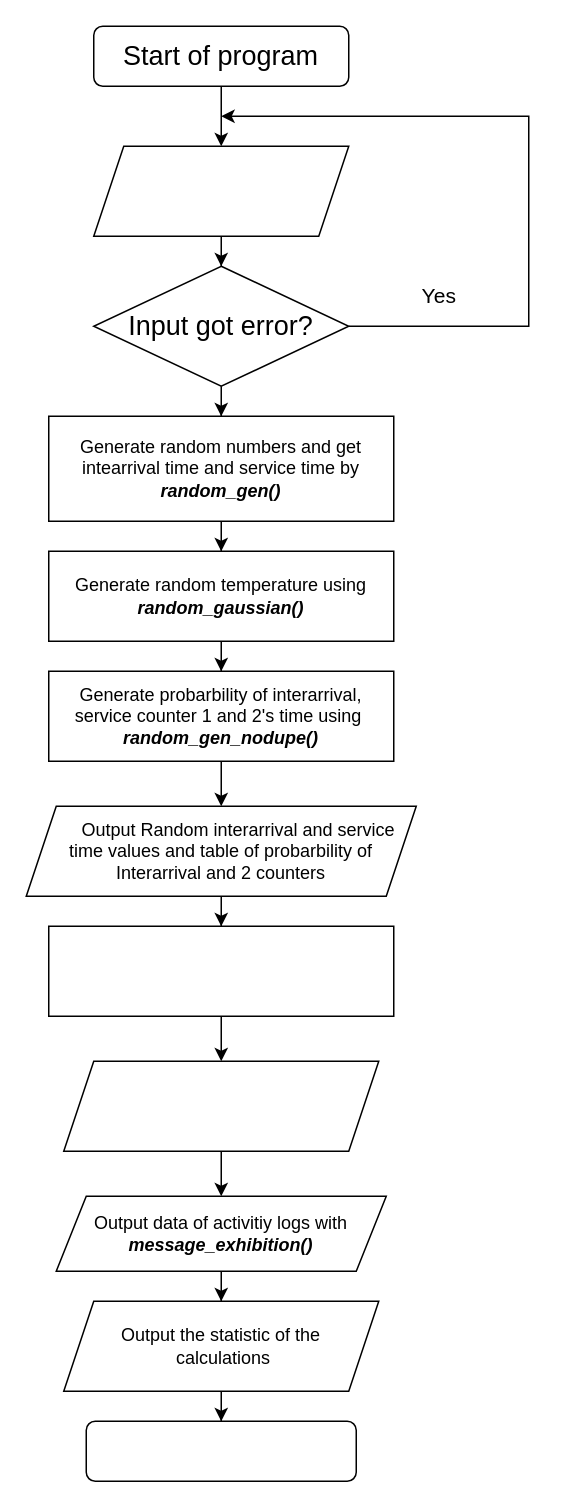
Image size: 567x1508. Some labels were removed from this diagram. The shapes that lost their labels are listed below. From the top down, each one's box as (x1, y1, x2, y2) in pixels, then its label:
(92, 145, 349, 236): Get User Input
(47, 925, 394, 1016): Get the calculation of data in final_output_logics()
(62, 1060, 379, 1151): Output the table of calculations of data
(85, 1420, 356, 1481): End of program
